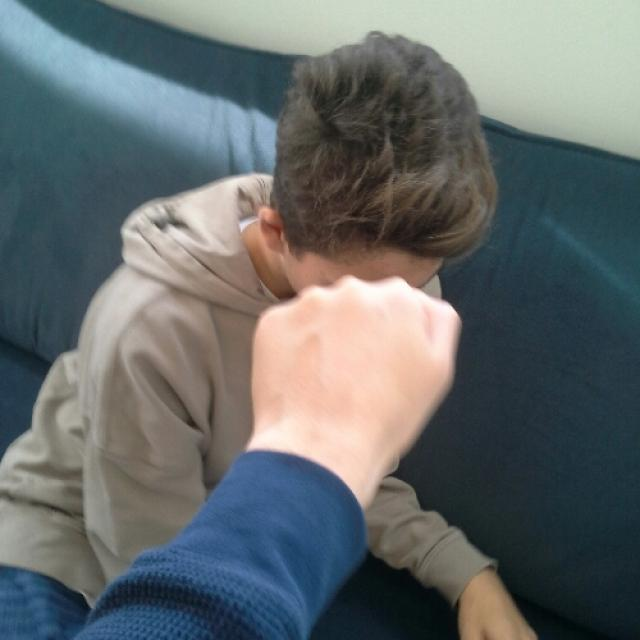fist: (248, 273, 462, 472)
